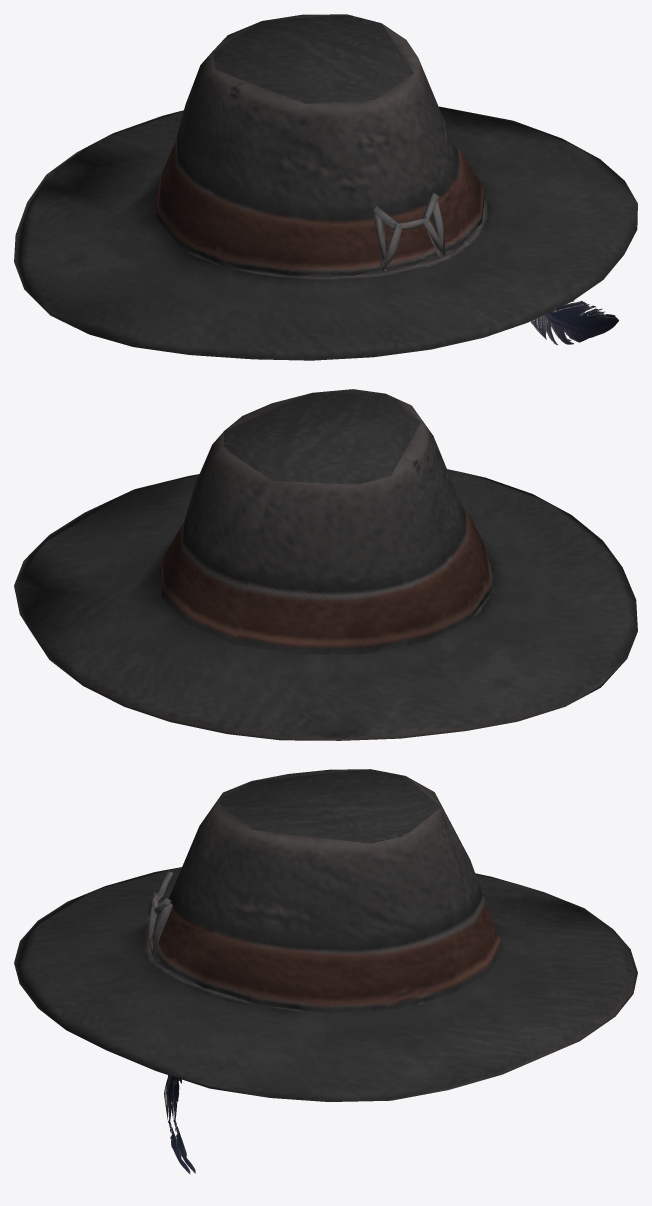
The model's file is BrimmedHat_Ground.fbx.
3 views of the same model, one above another, from view 1: azimuth 30°, elevation 25°; view 2: azimuth 150°, elevation 25°; view 3: azimuth 270°, elevation 25° (orthographic). The views are drawn at different scales.
Parts seen in each view (by area): view 1: 25_MIS28HeadAcc01_0.5_0_0; view 2: 25_MIS28HeadAcc01_0.5_0_0; view 3: 25_MIS28HeadAcc01_0.5_0_0.
Part boxes in pixels (x1,y1,x2,y2): 25_MIS28HeadAcc01_0.5_0_0: [14, 14, 637, 360]; 25_MIS28HeadAcc01_0.5_0_0: [14, 389, 637, 740]; 25_MIS28HeadAcc01_0.5_0_0: [14, 769, 637, 1174].
Bounding box in the file's own units: 0.2034 × 0.1025 × 0.2037.
